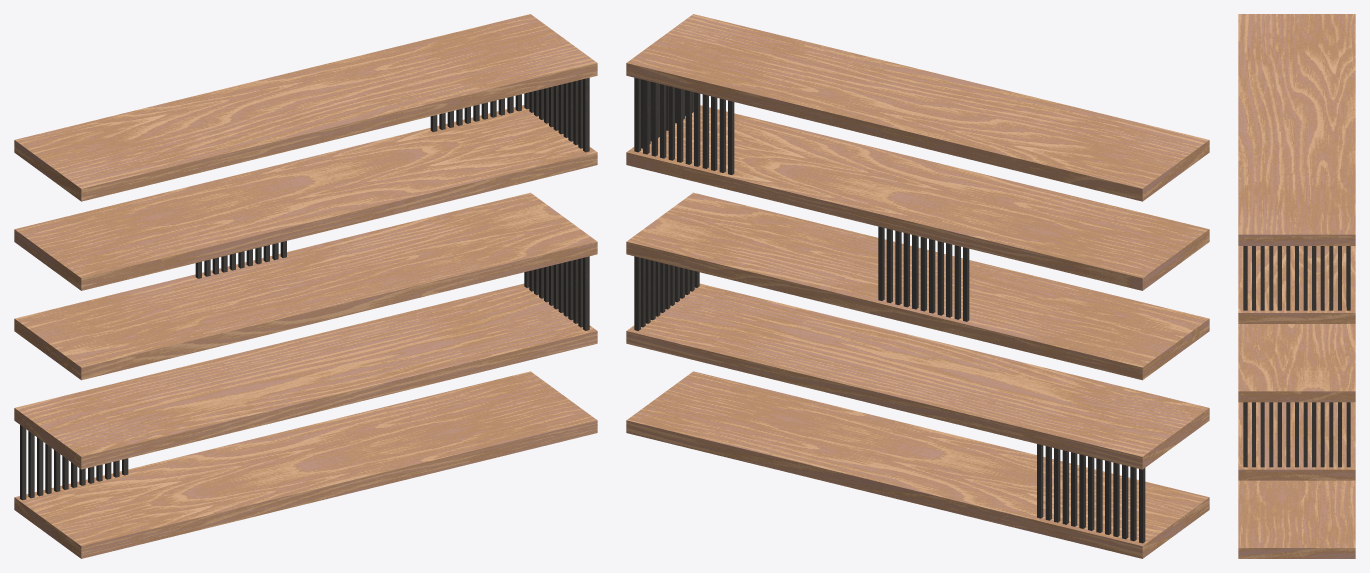
Rendered from floating_shelf.glb.
3 views of the same model, side by side, from view 1: azimuth 30°, elevation 25°; view 2: azimuth 150°, elevation 25°; view 3: azimuth 270°, elevation 25° (orthographic). The views are drawn at different scales.
Parts seen in each view (by area): view 1: Shelf1, Floating shelf, Shelf3, Shelf2, Shelf4, Rail2, Rail3, Rail4, Rail1, Rail5; view 2: Shelf1, Shelf2, Shelf4, Floating shelf, Shelf3, Rail2, Rail1, Rail5, Rail3, Rail4; view 3: Shelf1, Floating shelf, Shelf3, Shelf2, Shelf4, Rail3, Rail4.
Part boxes in pixels (left/top/right/bottom): Shelf1: left=14, top=14, right=597, bottom=201; Floating shelf: left=14, top=192, right=597, bottom=380; Shelf3: left=14, top=371, right=597, bottom=558; Shelf2: left=14, top=283, right=597, bottom=469; Shelf4: left=14, top=105, right=597, bottom=290; Rail2: left=20, top=425, right=128, bottom=500; Rail3: left=524, top=256, right=589, bottom=330; Rail4: left=524, top=77, right=589, bottom=152; Rail1: left=430, top=94, right=521, bottom=131; Rail5: left=195, top=241, right=286, bottom=278; Shelf1: left=626, top=14, right=1209, bottom=201; Shelf2: left=626, top=283, right=1209, bottom=469; Shelf4: left=626, top=105, right=1209, bottom=290; Floating shelf: left=626, top=192, right=1209, bottom=380; Shelf3: left=626, top=371, right=1209, bottom=558; Rail2: left=1037, top=444, right=1145, bottom=543; Rail1: left=643, top=80, right=734, bottom=174; Rail5: left=878, top=226, right=969, bottom=321; Rail3: left=634, top=256, right=699, bottom=330; Rail4: left=634, top=77, right=693, bottom=152; Shelf1: left=1238, top=14, right=1355, bottom=245; Floating shelf: left=1238, top=324, right=1355, bottom=402; Shelf3: left=1238, top=480, right=1355, bottom=558; Shelf2: left=1238, top=402, right=1355, bottom=480; Shelf4: left=1238, top=246, right=1355, bottom=323; Rail3: left=1243, top=402, right=1350, bottom=467; Rail4: left=1243, top=246, right=1350, bottom=310.
Bounding box in the file's own units: 3.96 × 2.71 × 0.8889.
Materials: 2 (2 with a texture image).
